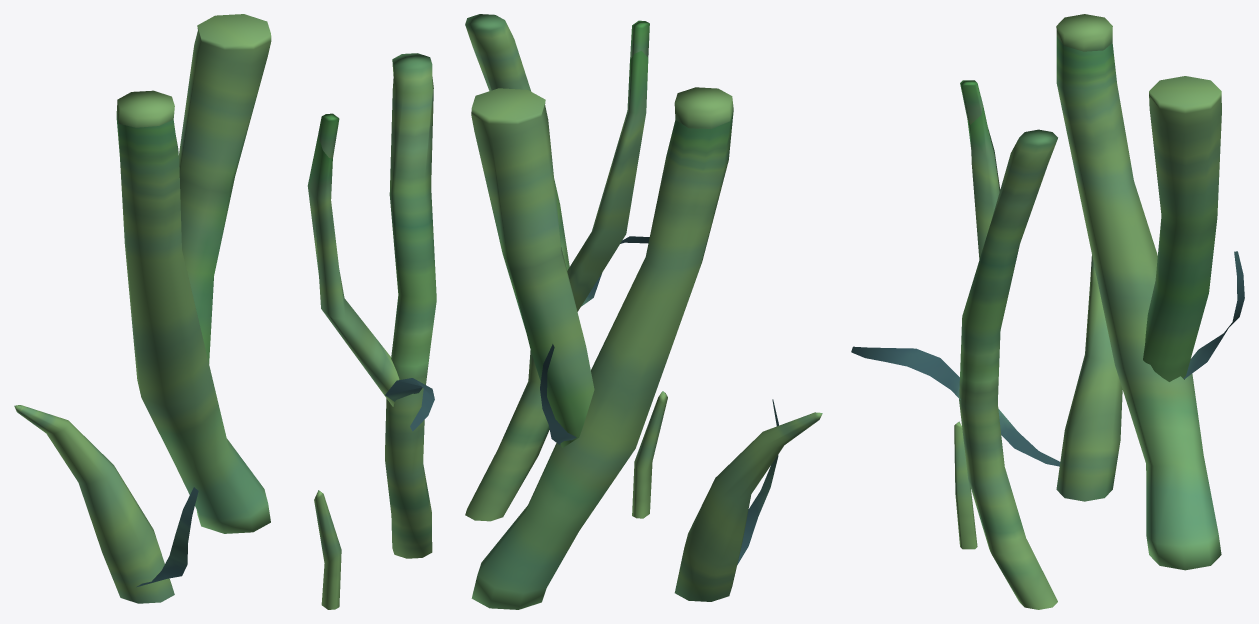
The model's file is stems04.fbx.
3 renders of one model, left to right at view 1: azimuth 30°, elevation 25°; view 2: azimuth 150°, elevation 25°; view 3: azimuth 270°, elevation 25°, orthographic. The views are drawn at different scales.
Parts seen in each view (by area): view 1: stems04; view 2: stems04; view 3: stems04.
Part boxes in pixels (box(x1,y1,x2,y2)): stems04: box(14, 14, 436, 609); stems04: box(465, 14, 822, 609); stems04: box(851, 14, 1244, 609).
Bounding box in the file's own units: 0.8248 × 1 × 0.7694.
